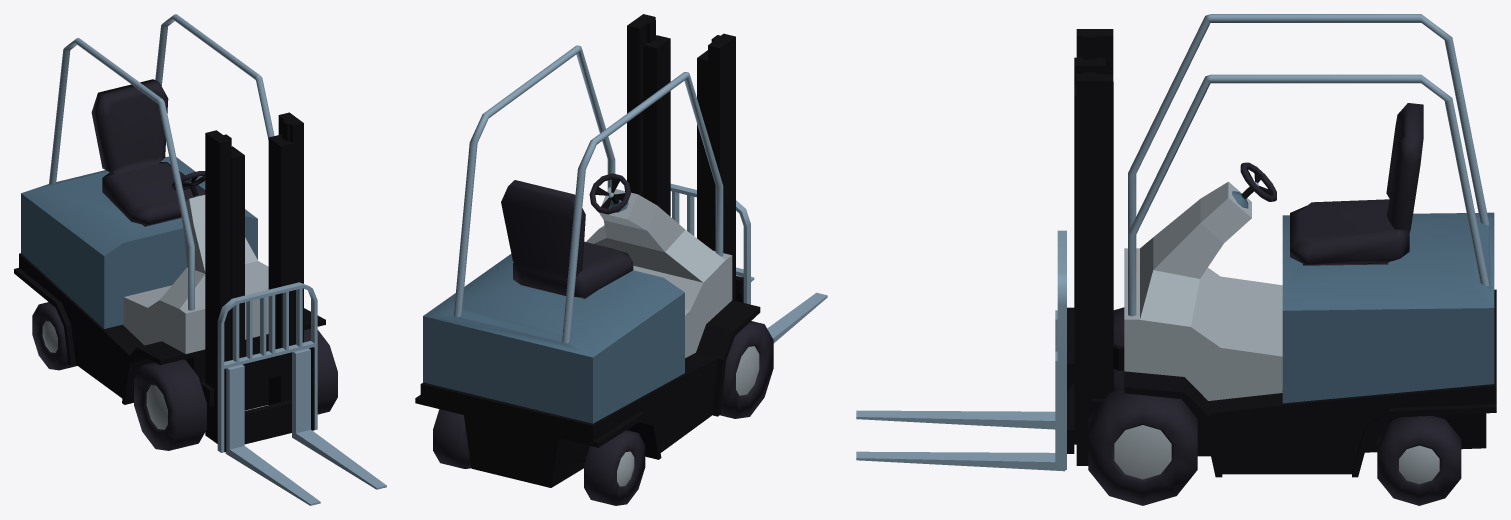
File: forklift.fbx
The picture shows the model from 3 angles, left to right: view 1: azimuth 30°, elevation 25°; view 2: azimuth 150°, elevation 25°; view 3: azimuth 270°, elevation 25°; orthographic projection. The views are drawn at different scales.
Visible parts, largest first — view 1: Main_Body, Forks, Front_Wheel_Right, Back_Wheel_Right, Front_Wheel_Left; view 2: Main_Body, Forks, Front_Wheel_Right, Back_Wheel_Right, Back_Wheel_Left; view 3: Main_Body, Forks, Front_Wheel_Left, Back_Wheel_Left, Front_Wheel_Right.
Boxes of the visible parts, x1=… form: Main_Body: x1=14, y1=14, x2=325, y2=443; Forks: x1=217, y1=134, x2=386, y2=505; Front_Wheel_Right: x1=134, y1=359, x2=206, y2=450; Back_Wheel_Right: x1=32, y1=302, x2=77, y2=370; Front_Wheel_Left: x1=304, y1=328, x2=337, y2=414; Main_Body: x1=415, y1=14, x2=760, y2=487; Forks: x1=643, y1=35, x2=827, y2=343; Front_Wheel_Right: x1=720, y1=321, x2=773, y2=418; Back_Wheel_Right: x1=584, y1=430, x2=645, y2=505; Back_Wheel_Left: x1=433, y1=409, x2=471, y2=468; Main_Body: x1=1076, y1=14, x2=1496, y2=477; Forks: x1=856, y1=57, x2=1105, y2=471; Front_Wheel_Left: x1=1088, y1=388, x2=1197, y2=505; Back_Wheel_Left: x1=1377, y1=415, x2=1461, y2=505; Front_Wheel_Right: x1=1113, y1=307, x2=1124, y2=391.
Bounding box in the file's own units: 1.1 × 2.05 × 2.9.
